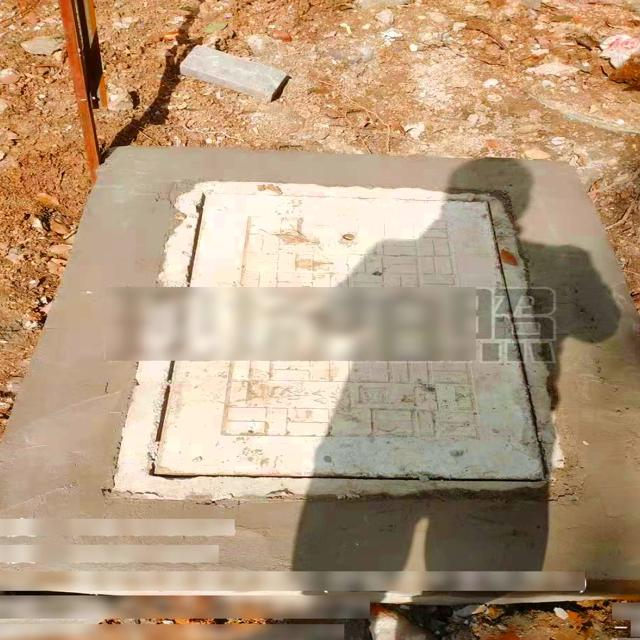good: (114, 180, 566, 497)
